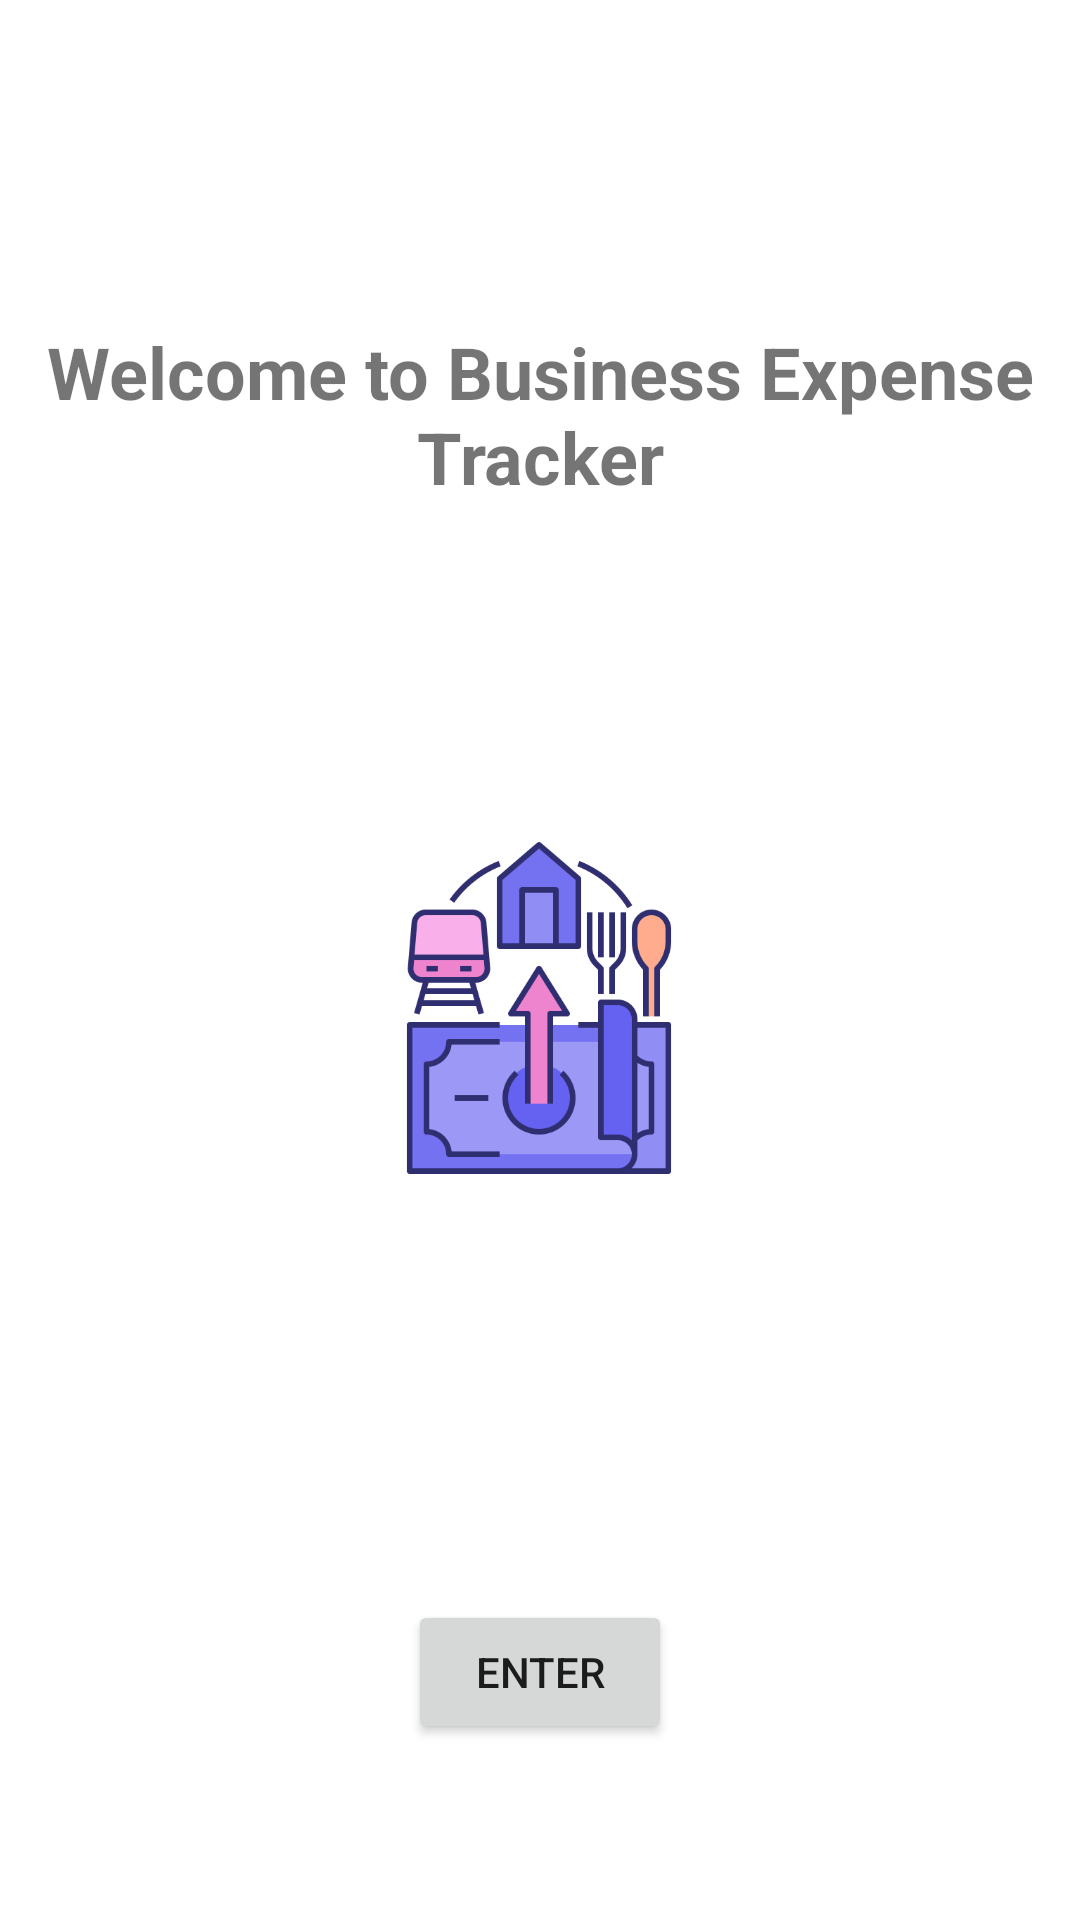

Where icons sit on this 1080px×1920px app screen, as Rect(x1, y1, x2, y2):
costs: Rect(407, 842, 671, 1174)
